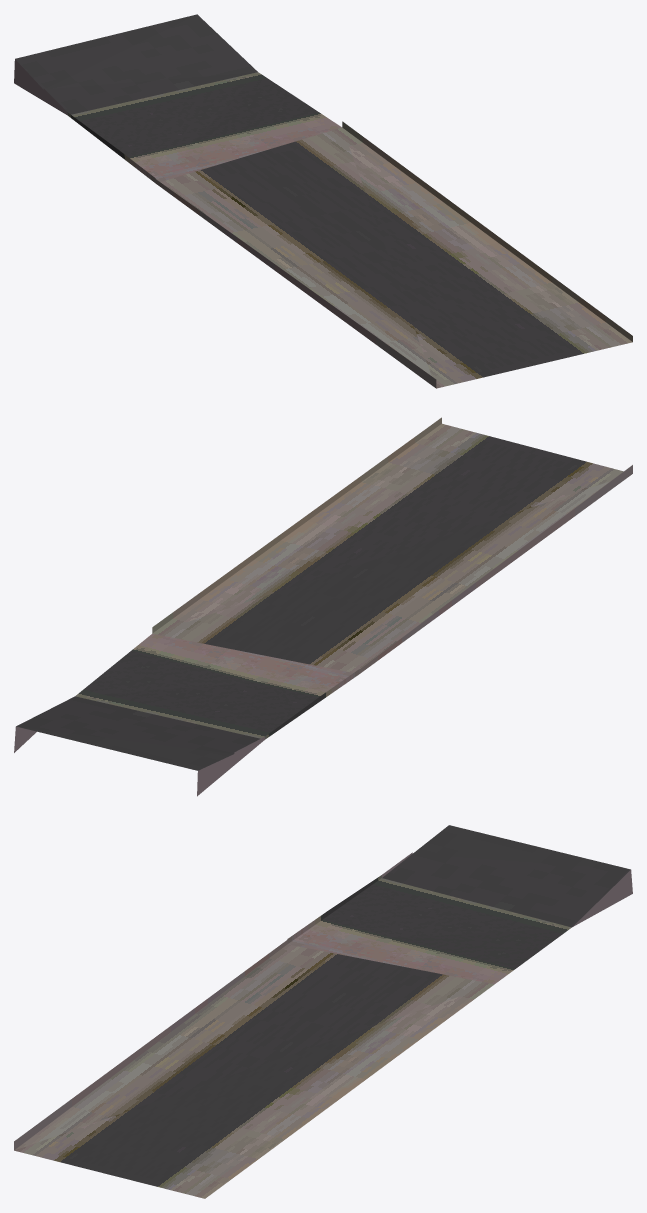
File: lodlae2_roads17.obj
The picture shows the model from 3 angles, top to bottom: view 1: azimuth 30°, elevation 25°; view 2: azimuth 150°, elevation 25°; view 3: azimuth 330°, elevation 25°; orthographic projection.
Visible parts, largest first — view 1: LODLae2_roads17; view 2: LODLae2_roads17; view 3: LODLae2_roads17.
Part boxes in pixels (left/top/right/bottom): LODLae2_roads17: left=14, top=14, right=632, bottom=388; LODLae2_roads17: left=14, top=417, right=632, bottom=796; LODLae2_roads17: left=14, top=825, right=632, bottom=1198.
Size of the model in its own units: 21.14 by 2.63 by 80.32.
2 materials, 2 textured.
